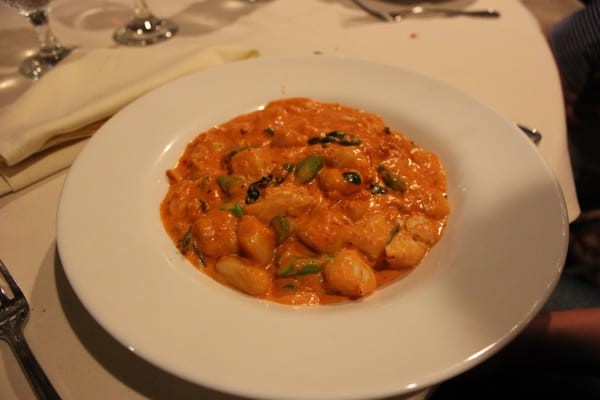burger: (0, 252, 62, 398)
